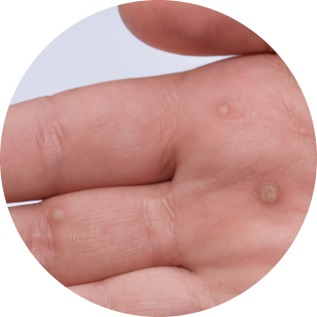Warts: (211, 91, 247, 126), (35, 204, 74, 234), (252, 181, 288, 210)
